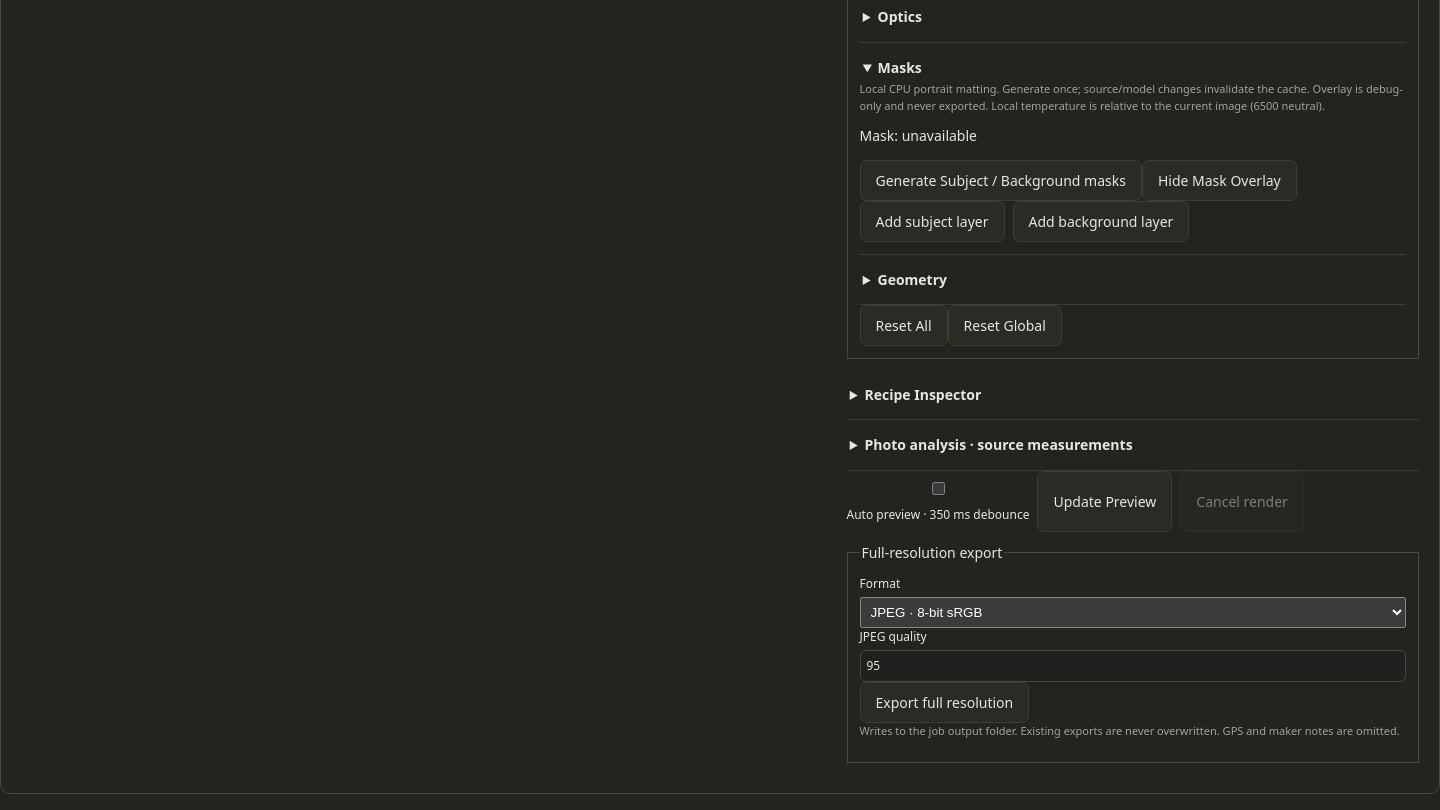
reports processing failures and requests cancellation without removing the photo
The width and height of the screenshot is (1440, 810).
(page scrolled)
Click the button "Update Preview". click: (1105,501)
box: [1038,471,1172,532]
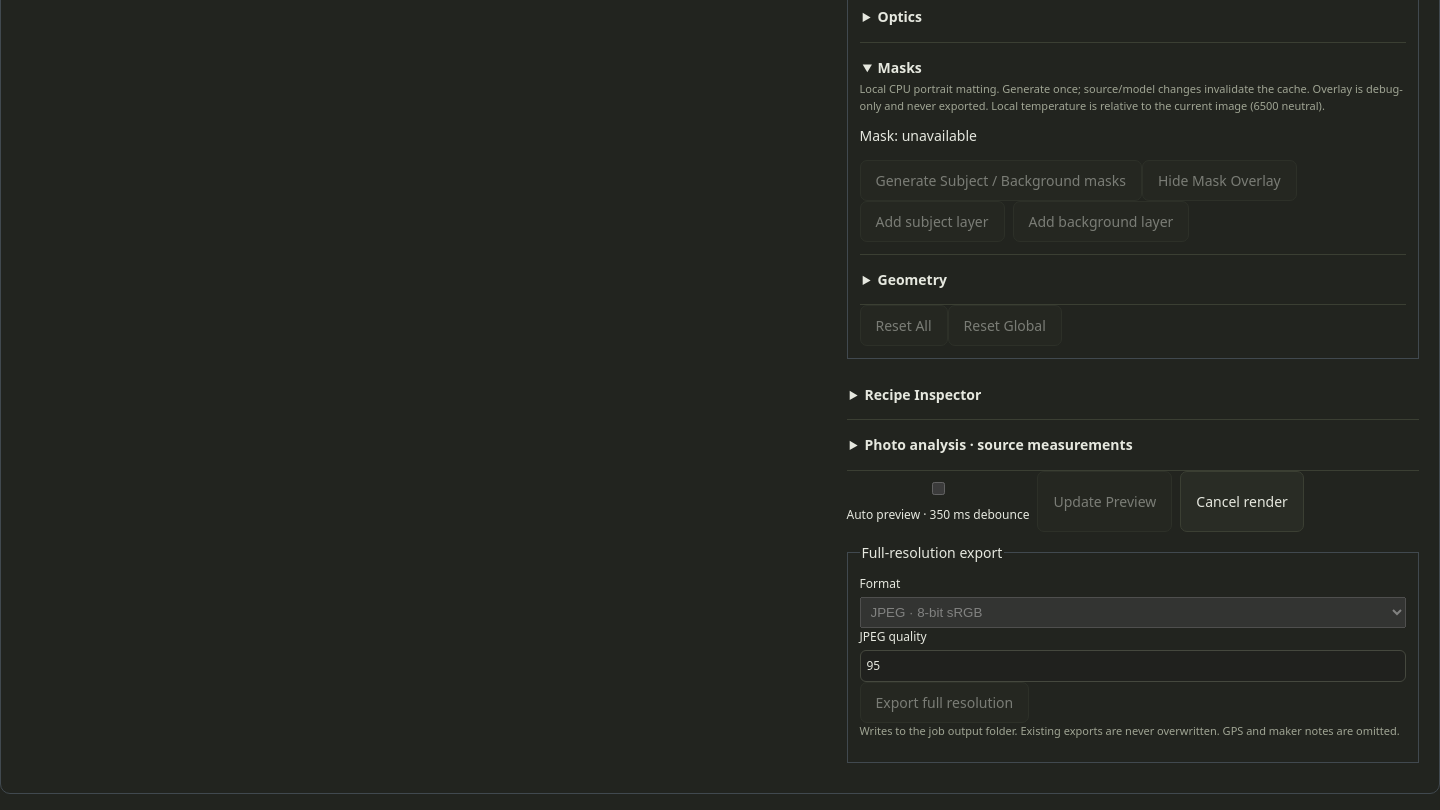
Click the button "Cancel render". click: (1242,501)
box: [1180,471,1304,532]
(page scrolled)
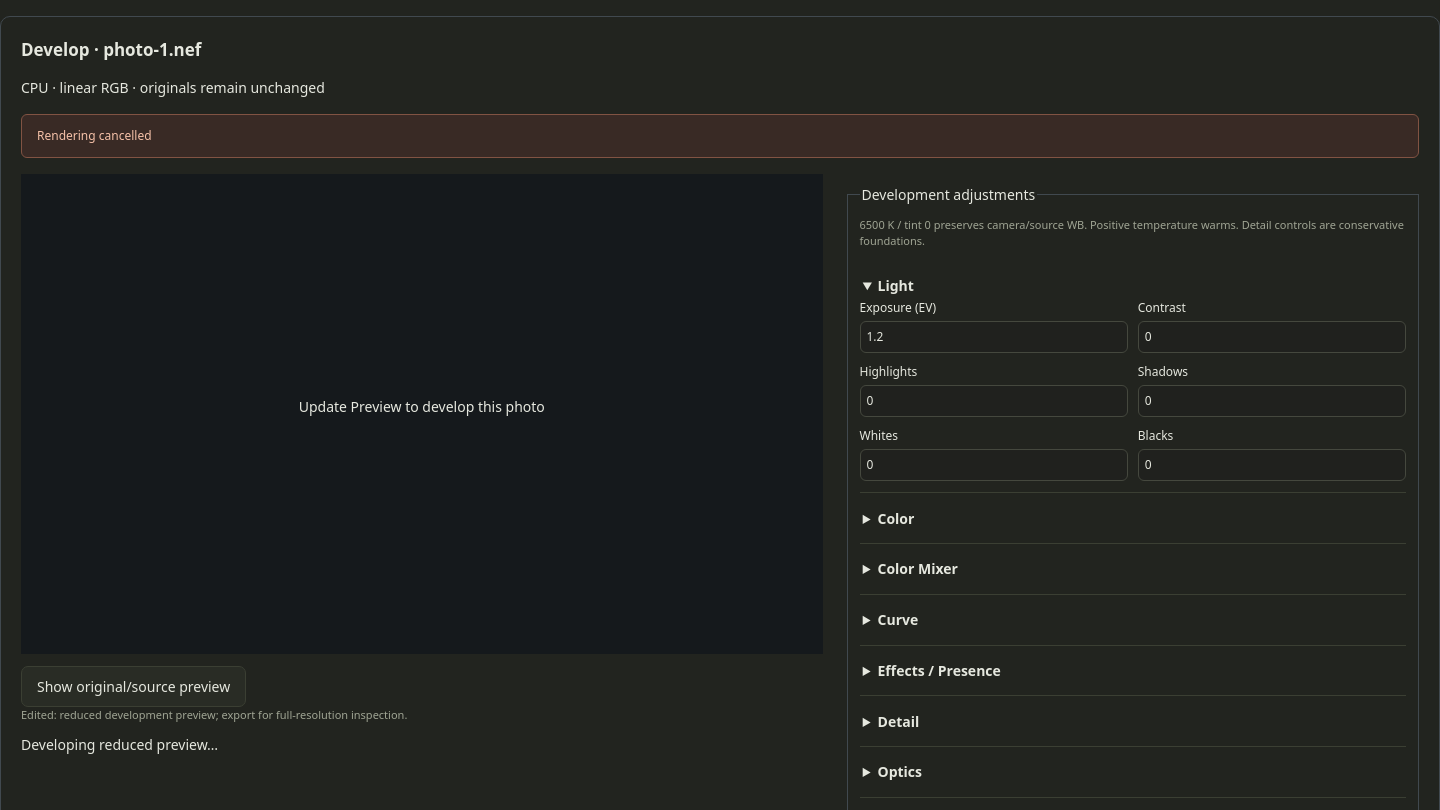
Expected: the heading "Develop · photo-1.nef" is shown, [21,38,201,61]
Now the message "Rendering cancelled" is shown, box [21,114,1419,158]
